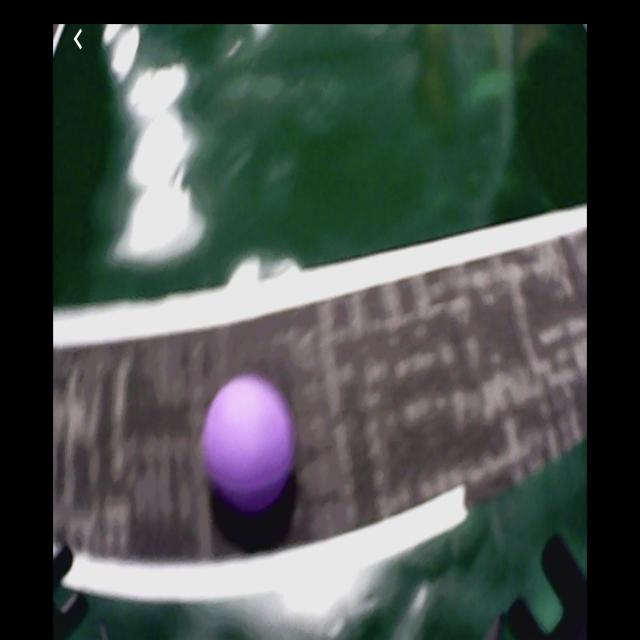ball: (209, 378, 297, 511)
